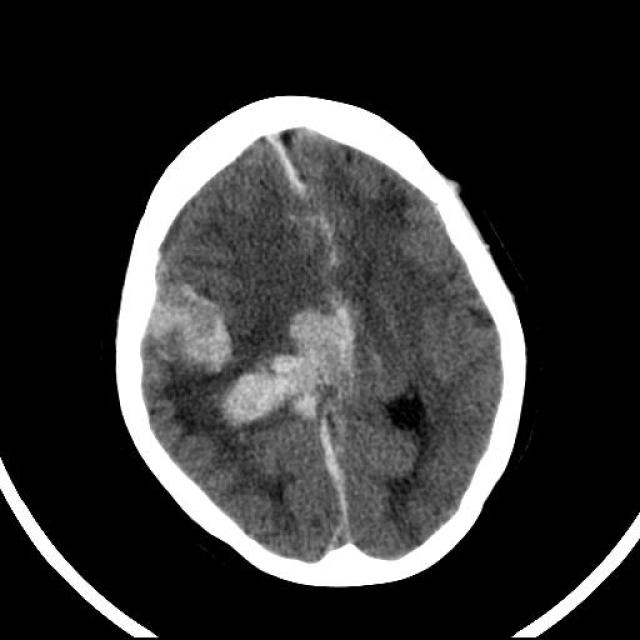Intraparenchymal: (216, 295, 382, 433), (132, 251, 258, 384)
Subdural: (286, 412, 382, 588), (245, 112, 326, 202)
